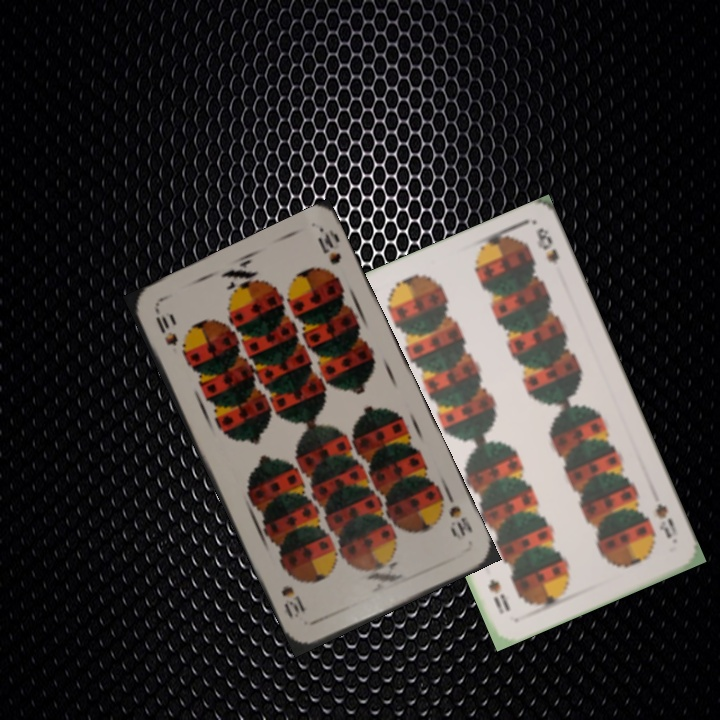S10: (443, 489, 476, 539), (151, 311, 181, 349)
S8: (651, 499, 680, 542)
